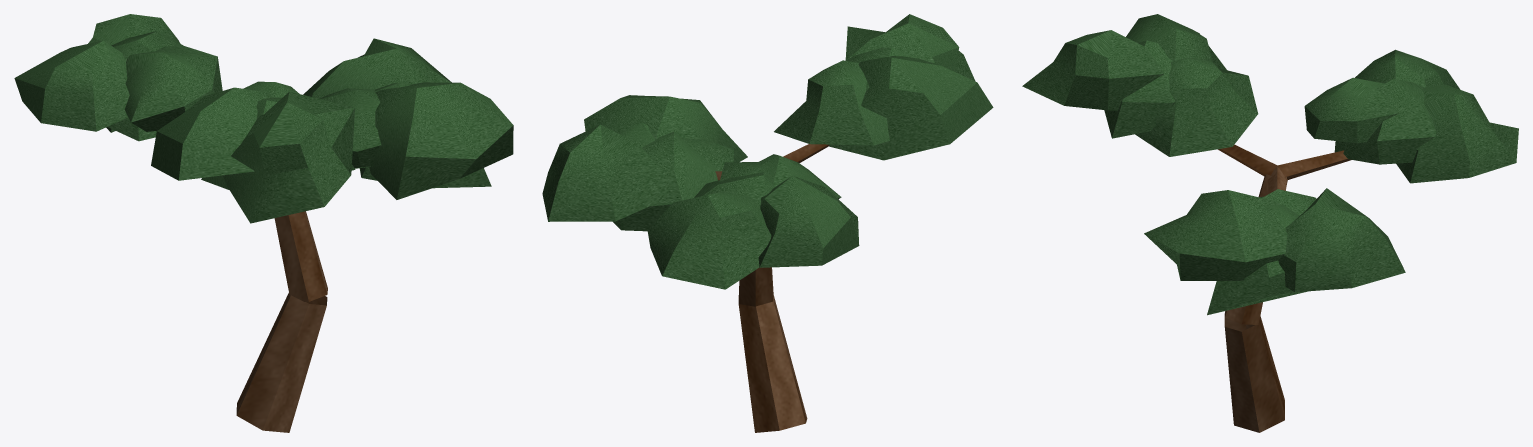
The model's file is ambient_tree_6.glb.
3 renders of one model, left to right at view 1: azimuth 30°, elevation 25°; view 2: azimuth 150°, elevation 25°; view 3: azimuth 270°, elevation 25°, orthographic. The views are drawn at different scales.
Parts seen in each view (by area): view 1: ambient_tree_6; view 2: ambient_tree_6; view 3: ambient_tree_6.
Boxes of the visible parts, bbox=[...] form: ambient_tree_6: bbox=[14, 14, 513, 432]; ambient_tree_6: bbox=[542, 14, 993, 432]; ambient_tree_6: bbox=[1022, 14, 1518, 432].
Bounding box in the file's own units: 5.65 × 5.69 × 7.01.
2 materials, 2 textured.
